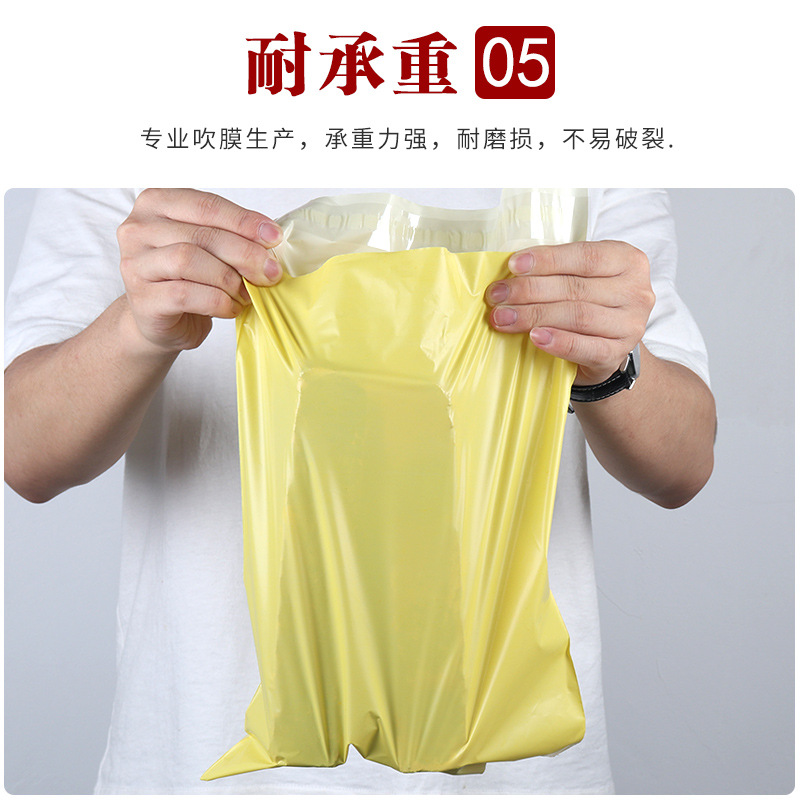Parcel: (187, 245, 586, 780)
